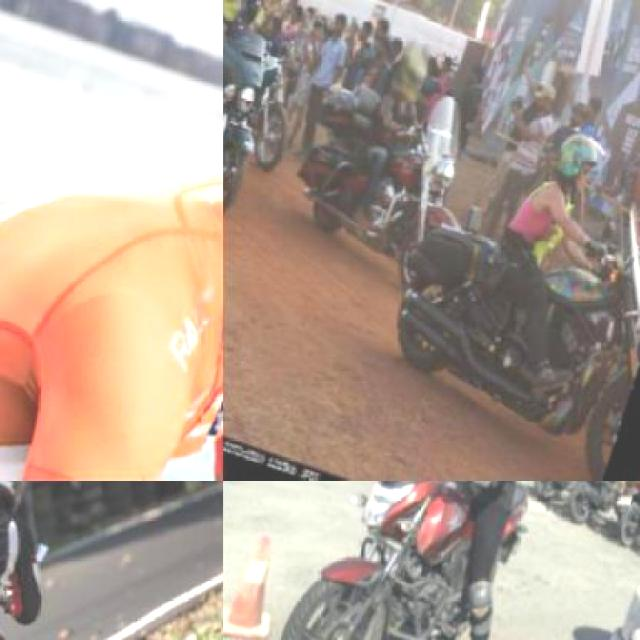With Helmet: (545, 122, 609, 195), (386, 39, 434, 107), (0, 480, 52, 523), (223, 0, 254, 25)
